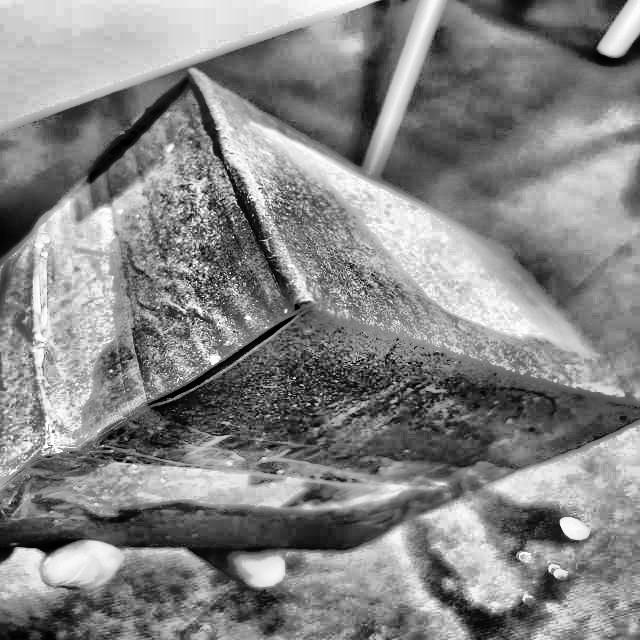box: (0, 69, 639, 555)
wet: (102, 67, 386, 464)
